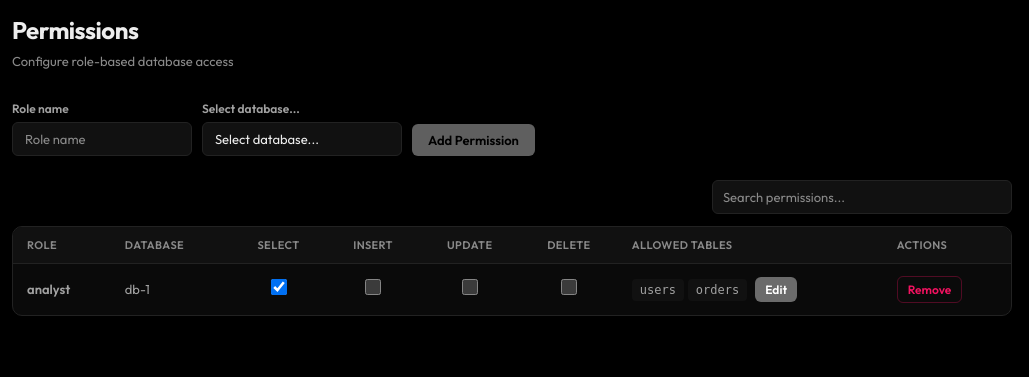
it: Permissions flows › Edit tables handles getDbTables failure gracefully
Expected: the text "analyst" is shown, [13, 264, 111, 315]
Click the button with aria-label "Edit table access for analyst on db-1": (776, 290) [755, 277, 797, 302]
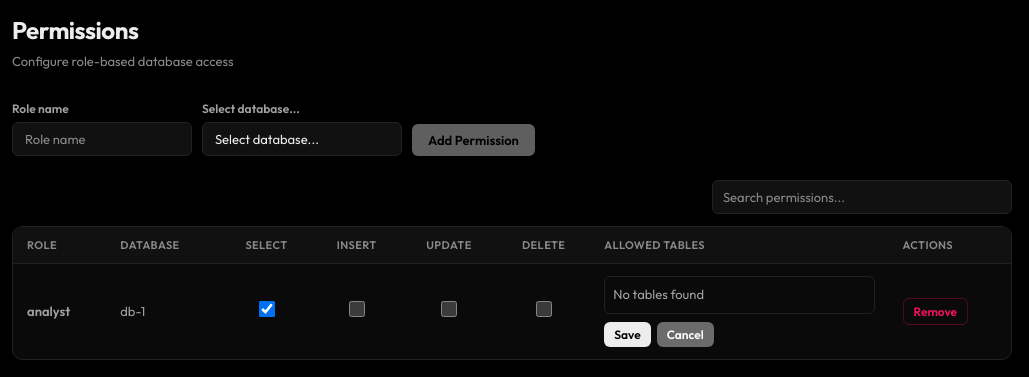
Expected: the text "No tables found" is shown, [613, 286, 704, 302]
